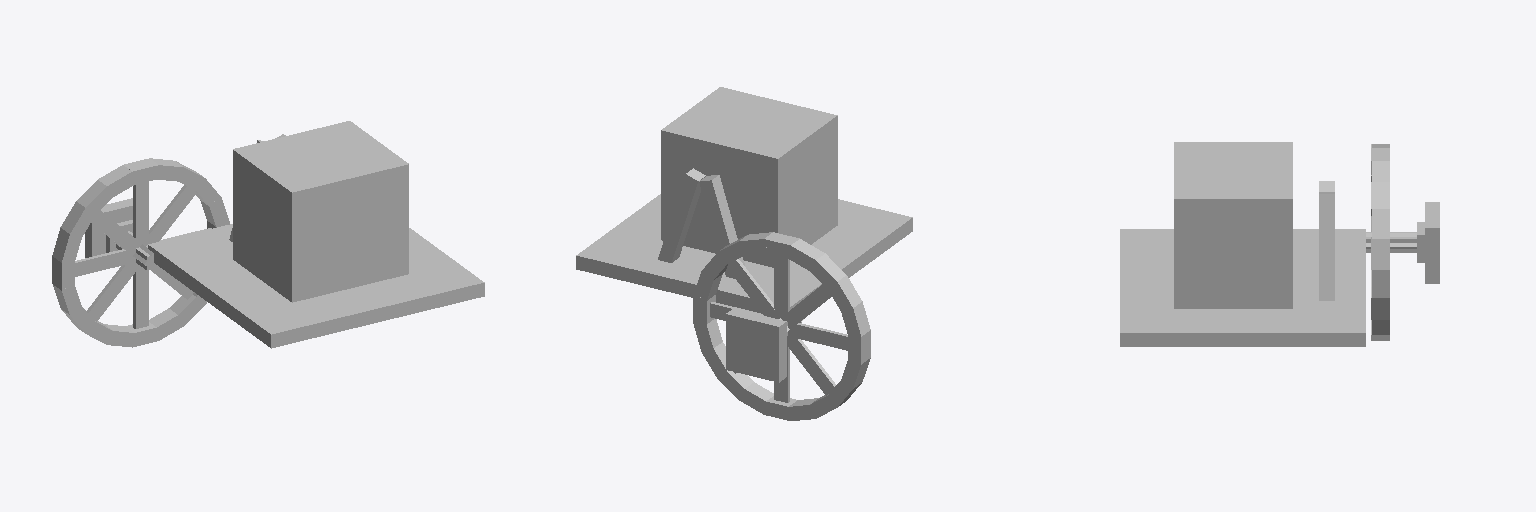
Rendered from spinning_wheel.obj.
The picture shows the model from 3 angles: view 1: azimuth 30°, elevation 25°; view 2: azimuth 150°, elevation 25°; view 3: azimuth 270°, elevation 25°; orthographic projection.
Visible parts, largest first — view 1: base, wheel; view 2: base, wheel; view 3: base, wheel.
Part boxes in pixels (left/top/right/bottom): base: left=148, top=121, right=484, bottom=348; wheel: left=52, top=158, right=229, bottom=347; base: left=576, top=87, right=912, bottom=313; wheel: left=693, top=232, right=870, bottom=420; base: left=1120, top=142, right=1365, bottom=346; wheel: left=1366, top=144, right=1439, bottom=340.
Size of the model in its own units: 1.39 by 0.9494 by 1.3.